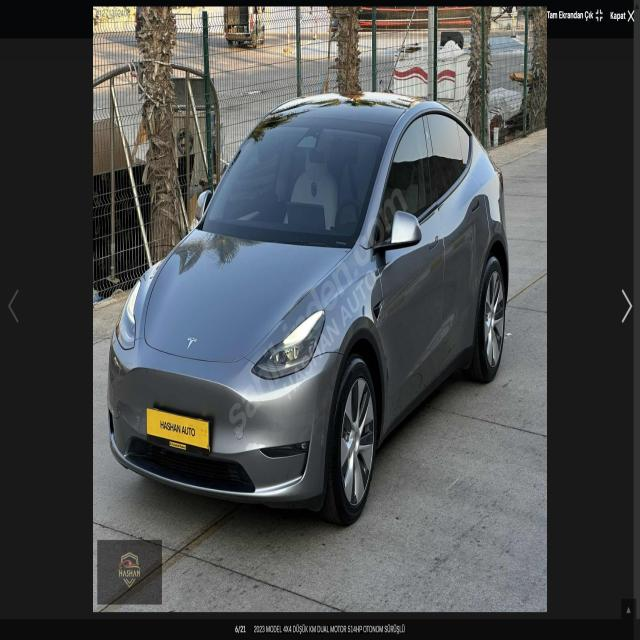tesla: (182, 322, 200, 364)
